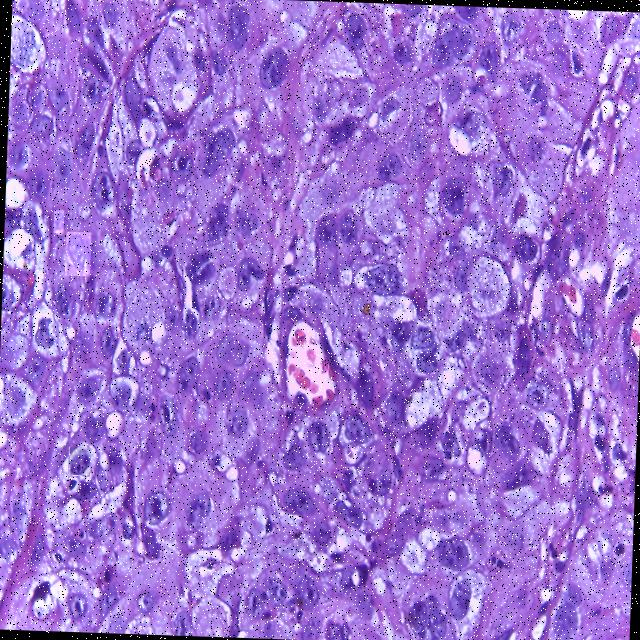Multiple Nucleol: (65, 230, 89, 275), (67, 447, 89, 473), (53, 209, 63, 232)
